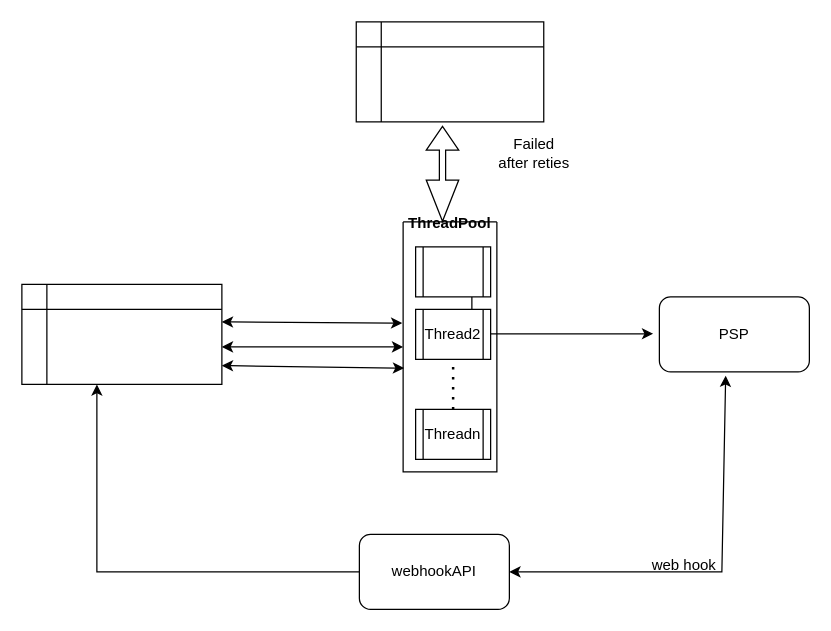
Image size: 831x631. Some labels were removed from this diagram. The shapes that lost their labels are listed below. From the top down, each one's centre as x and y in pixels, then its label:
At point (449, 71): "DeadLetter Queue".
At point (452, 271): "Thread1".
At point (121, 333): "Registration Event queue".
